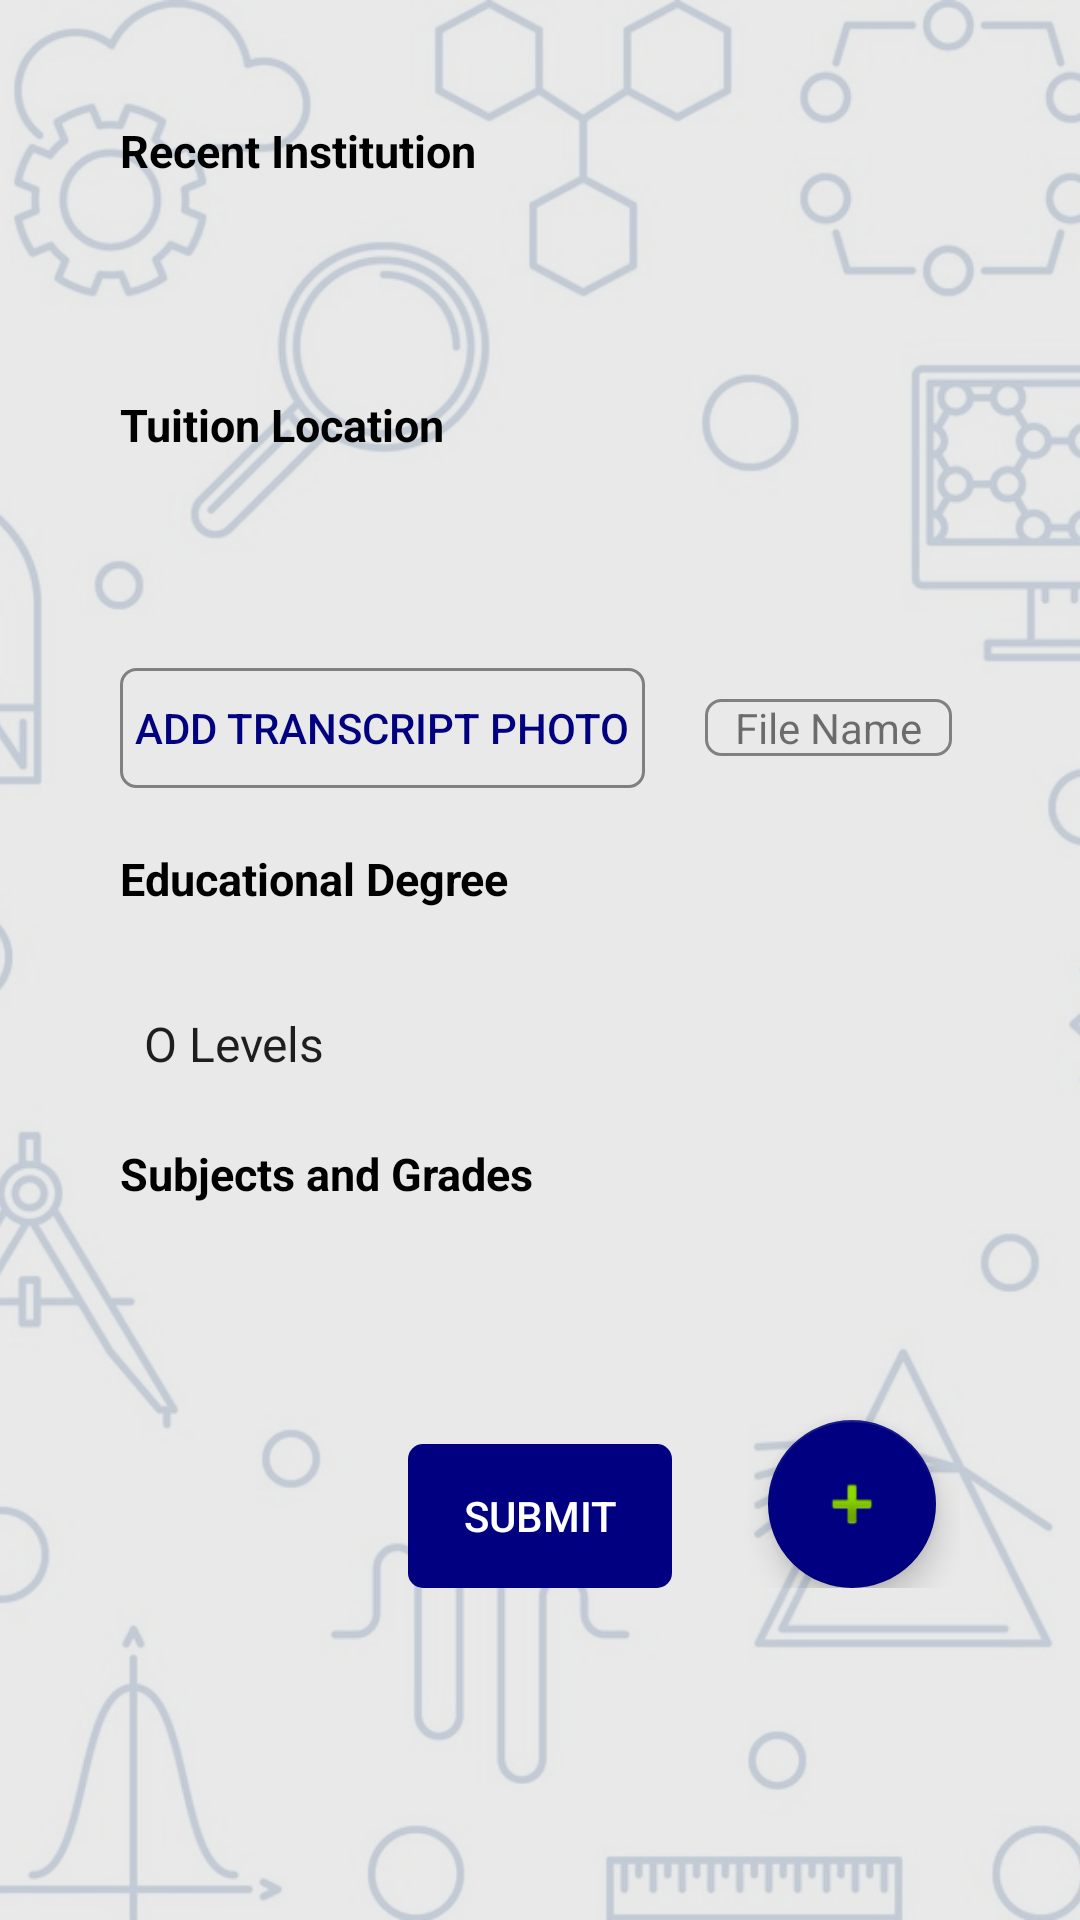

Where to tap for icons on this 1080x1920 app screen, as point (x, y):
add: point (852, 1504)
